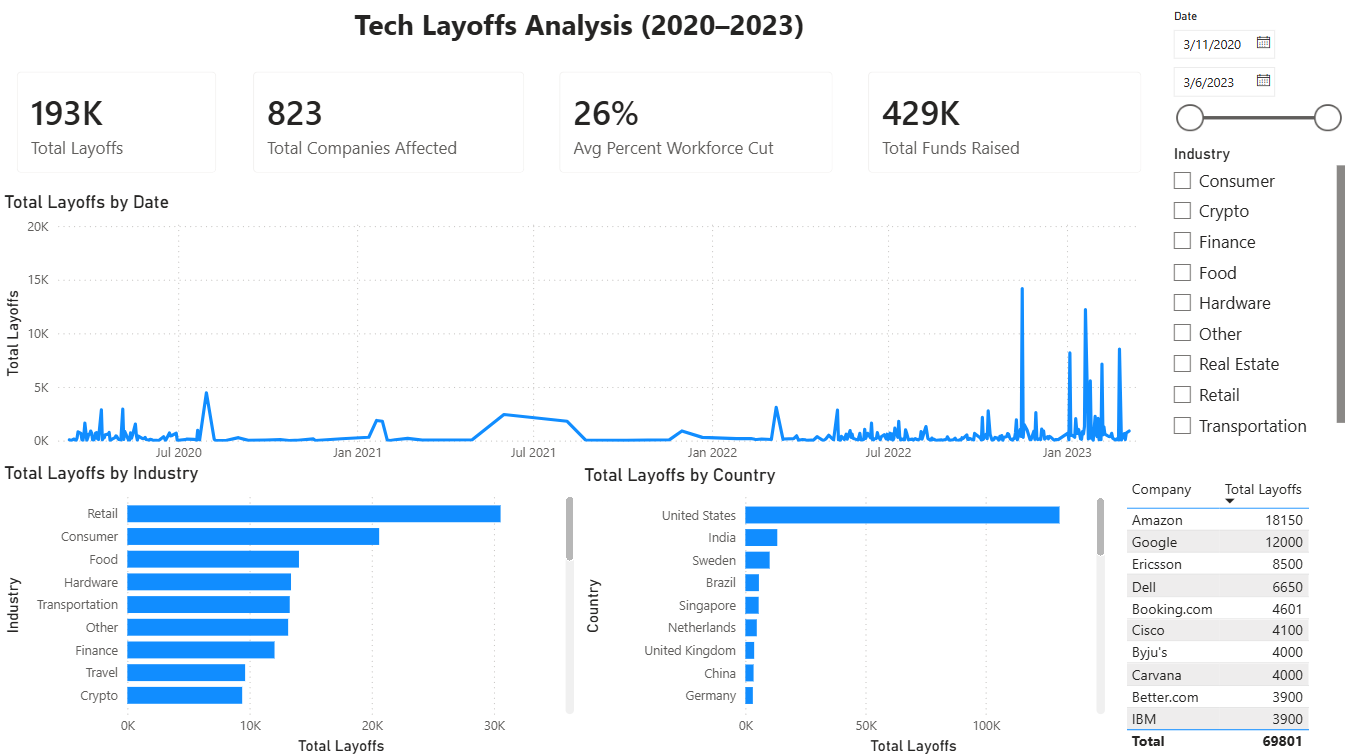

The page's visual inventory and layout, read from the dashboard file:
{"tool":"powerbi","page":{"name":"Page 1","canvas":[1280,720],"ordinal":0},"visuals":[{"type":"cardVisual","fields":{"Data":["layoffs_cleaned.Total Layoffs"]},"box":[0,51.2,223.3,130.2],"z":0},{"type":"cardVisual","fields":{"Data":["layoffs_cleaned.Total Companies Affected"]},"box":[223.3,51.2,291.9,130.2],"z":1000},{"type":"cardVisual","fields":{"Data":["layoffs_cleaned.Avg Percent Workforce Cut"]},"box":[514,51.2,293,130.2],"z":2000},{"type":"cardVisual","fields":{"Data":["layoffs_cleaned.Total Funds Raised"]},"box":[807,51.2,293,130.2],"z":3000},{"type":"lineChart","fields":{"Category":["DateTable.Date"],"Y":["layoffs_cleaned.Total Layoffs"]},"box":[0,181.4,1100,280.2],"z":4000},{"type":"clusteredBarChart","fields":{"Category":["layoffs_cleaned.Industry"],"Y":["layoffs_cleaned.Total Layoffs"]},"box":[0,438.4,550,281.4],"z":5000},{"type":"clusteredBarChart","fields":{"Category":["layoffs_cleaned.Country"],"Y":["layoffs_cleaned.Total Layoffs"]},"box":[550,439.5,503.5,280.2],"z":6000},{"type":"tableEx","fields":{"Values":["layoffs_cleaned.Company","layoffs_cleaned.Total Layoffs"]},"box":[1062.3,447.7,217.9,272.4],"z":7000},{"type":"slicer","fields":{"Values":["DateTable.Date"]},"box":[1100.2,3.6,180,129.1],"z":8000},{"type":"slicer","fields":{"Values":["layoffs_cleaned.Industry"]},"box":[1100.2,132.6,180,294.9],"z":9000},{"type":"textbox","box":[0,0,1100,51.2],"z":9001}]}

Visuals, with their boxes in screenshot pixels (x1, y1, x2, y2), scaled from the page's 1280x720 canvas onto the 1349x756 screenshot:
cardVisual - layoffs_cleaned.Total Layoffs: [0, 54, 235, 190]
cardVisual - layoffs_cleaned.Total Companies Affected: [235, 54, 543, 190]
cardVisual - layoffs_cleaned.Avg Percent Workforce Cut: [542, 54, 851, 190]
cardVisual - layoffs_cleaned.Total Funds Raised: [851, 54, 1159, 190]
lineChart - DateTable.Date x layoffs_cleaned.Total Layoffs: [0, 190, 1159, 485]
clusteredBarChart - layoffs_cleaned.Industry x layoffs_cleaned.Total Layoffs: [0, 460, 580, 755]
clusteredBarChart - layoffs_cleaned.Country x layoffs_cleaned.Total Layoffs: [580, 461, 1110, 755]
tableEx - layoffs_cleaned.Company x layoffs_cleaned.Total Layoffs: [1120, 470, 1348, 755]
slicer - DateTable.Date: [1160, 4, 1348, 139]
slicer - layoffs_cleaned.Industry: [1160, 139, 1348, 449]
textbox: [0, 0, 1159, 54]
